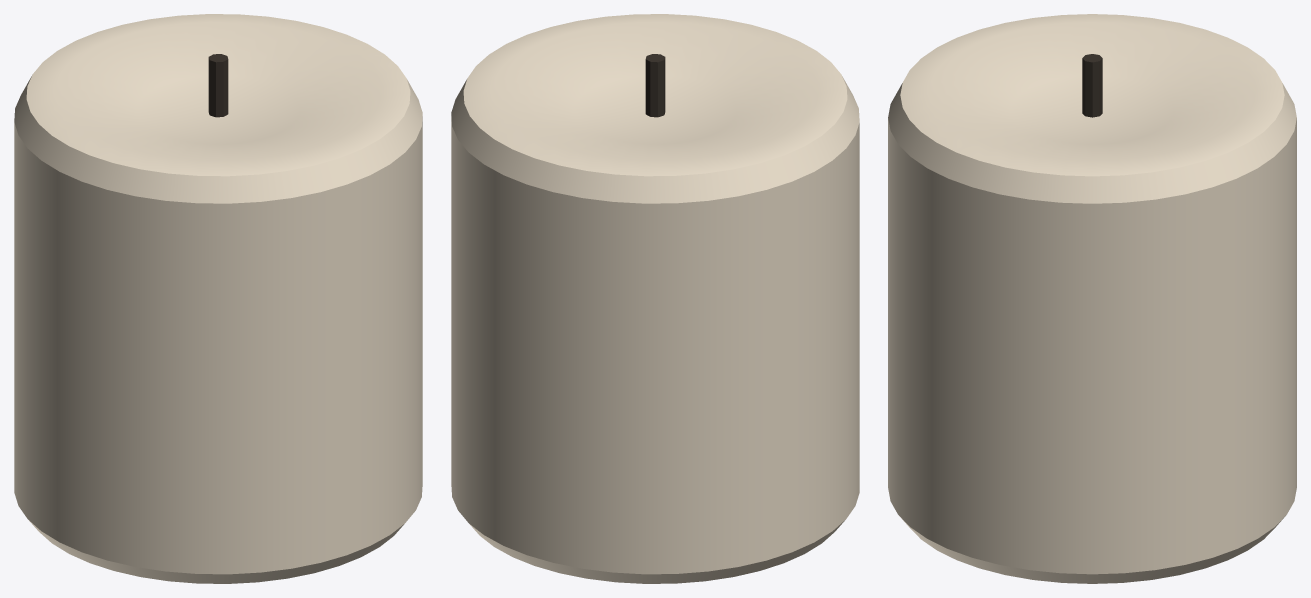
File: candle.glb
3 views of the same model, side by side, from view 1: azimuth 30°, elevation 25°; view 2: azimuth 150°, elevation 25°; view 3: azimuth 270°, elevation 25° (orthographic).
Parts seen in each view (by area): view 1: candle; view 2: candle; view 3: candle.
Part boxes in pixels (x1,y1,x2,y2): candle: [14, 14, 422, 583]; candle: [451, 14, 859, 583]; candle: [888, 14, 1296, 583].
Size of the model in its own units: 0.1 by 0.12 by 0.1.
